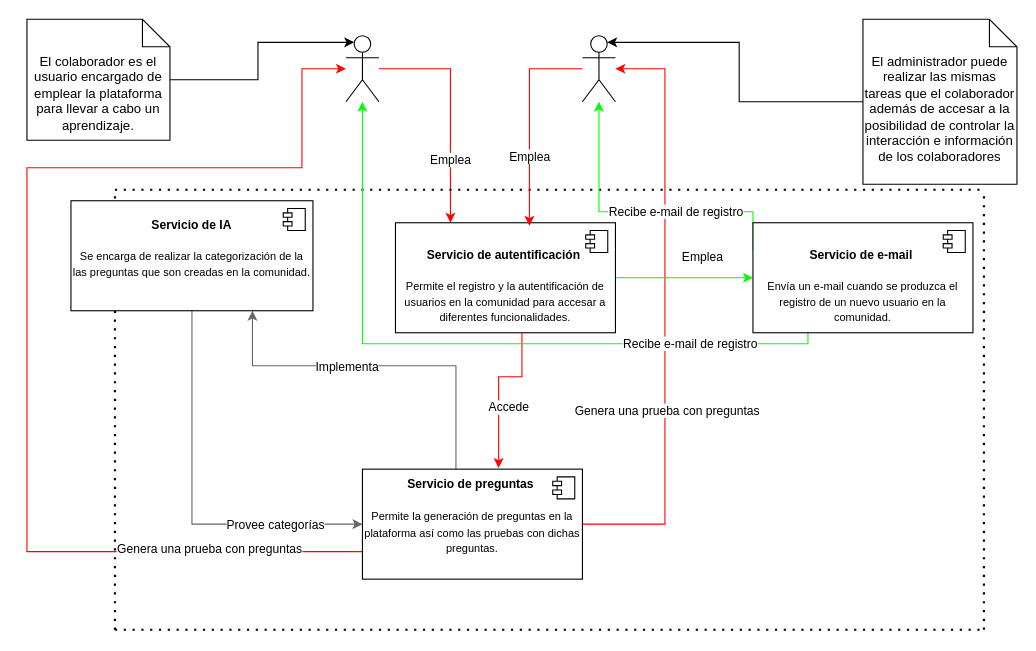
This 1036x651 diagram has some shape labels left out. The centre of each missing label's shape, as x and y in pixels:
"Administrador" belongs at point (598, 68).
"Colaborador" belongs at point (362, 68).
